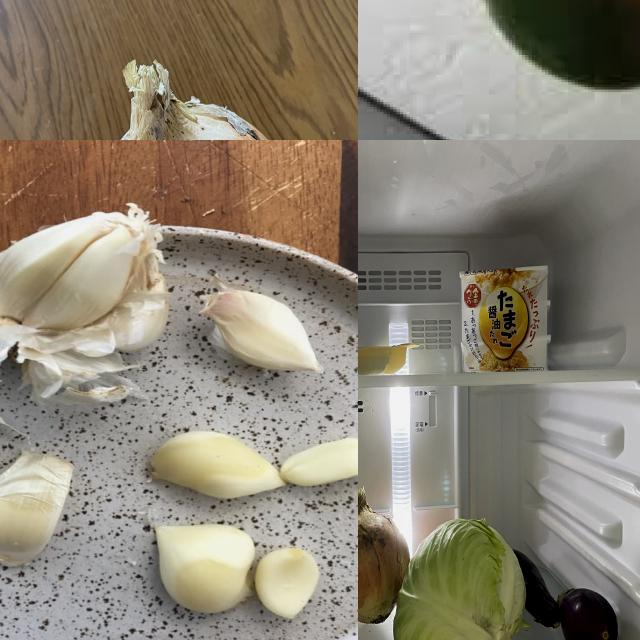bell_pepper: (390, 1, 640, 134)
cabbage: (392, 516, 526, 640)
eggplant: (516, 553, 563, 635), (559, 585, 624, 640)
garlic: (1, 210, 170, 358), (197, 287, 321, 378), (155, 522, 257, 618), (148, 432, 288, 500), (1, 454, 80, 569), (255, 546, 325, 622), (282, 430, 359, 493)
onion: (85, 62, 310, 141), (359, 490, 419, 624)
